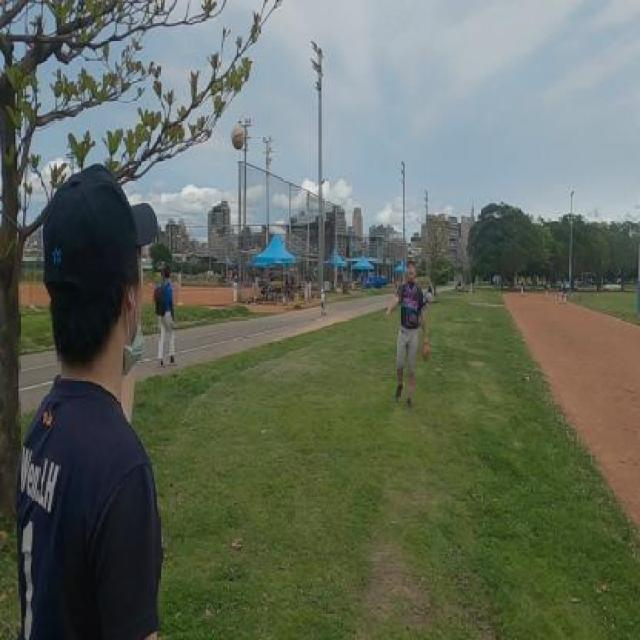baseball: (232, 124, 246, 150)
